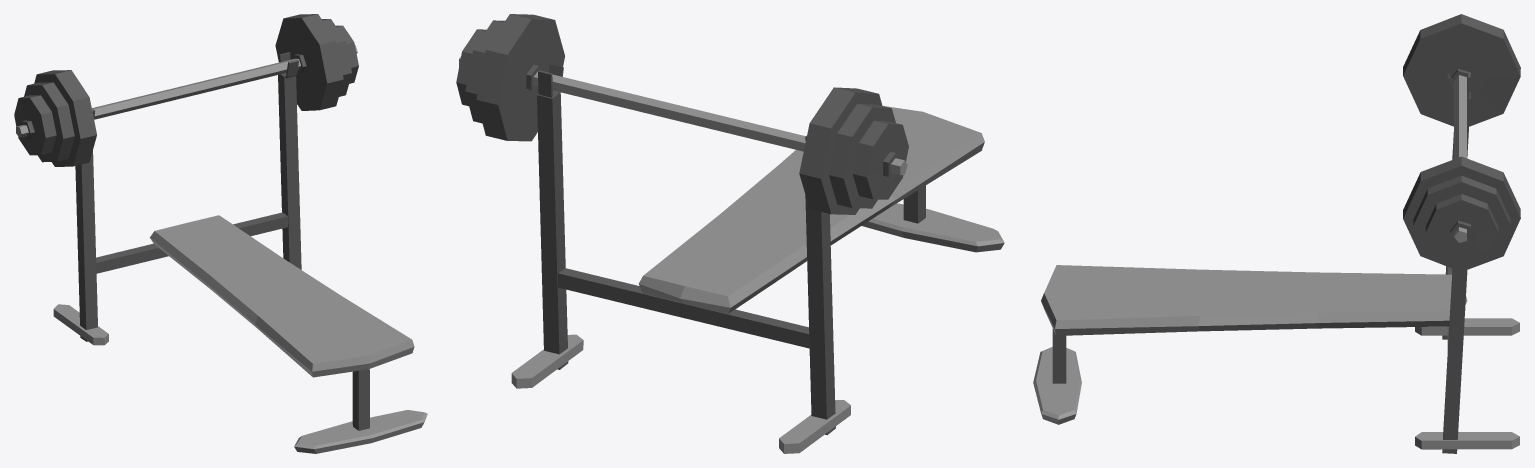
The model's file is Barbell.fbx.
3 renders of one model, left to right at view 1: azimuth 30°, elevation 25°; view 2: azimuth 150°, elevation 25°; view 3: azimuth 270°, elevation 25°, orthographic. The views are drawn at different scales.
Parts seen in each view (by area): view 1: Barbell; view 2: Barbell; view 3: Barbell.
Boxes of the visible parts, bbox=[...] form: Barbell: bbox=[14, 14, 427, 453]; Barbell: bbox=[456, 14, 1004, 453]; Barbell: bbox=[1033, 14, 1520, 453].
Bounding box in the file's own units: 192 × 211 × 146.
